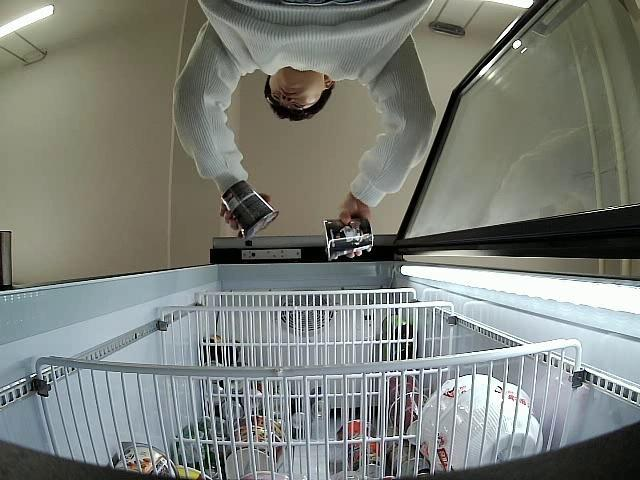08_buldak_S: (220, 180, 278, 240), (325, 214, 372, 261)
